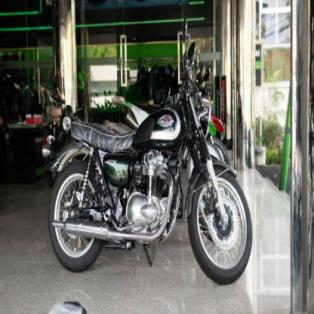Motocicleta: (42, 26, 250, 283)
